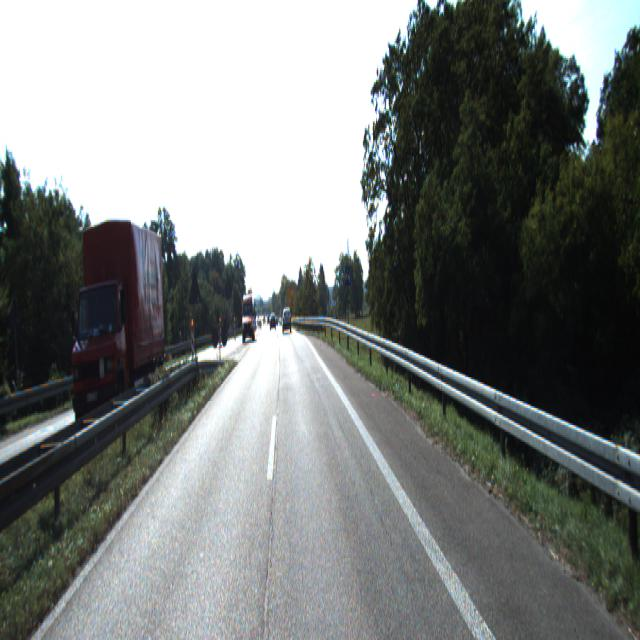Car: (70, 206, 170, 432), (241, 292, 256, 346), (284, 310, 292, 334)
